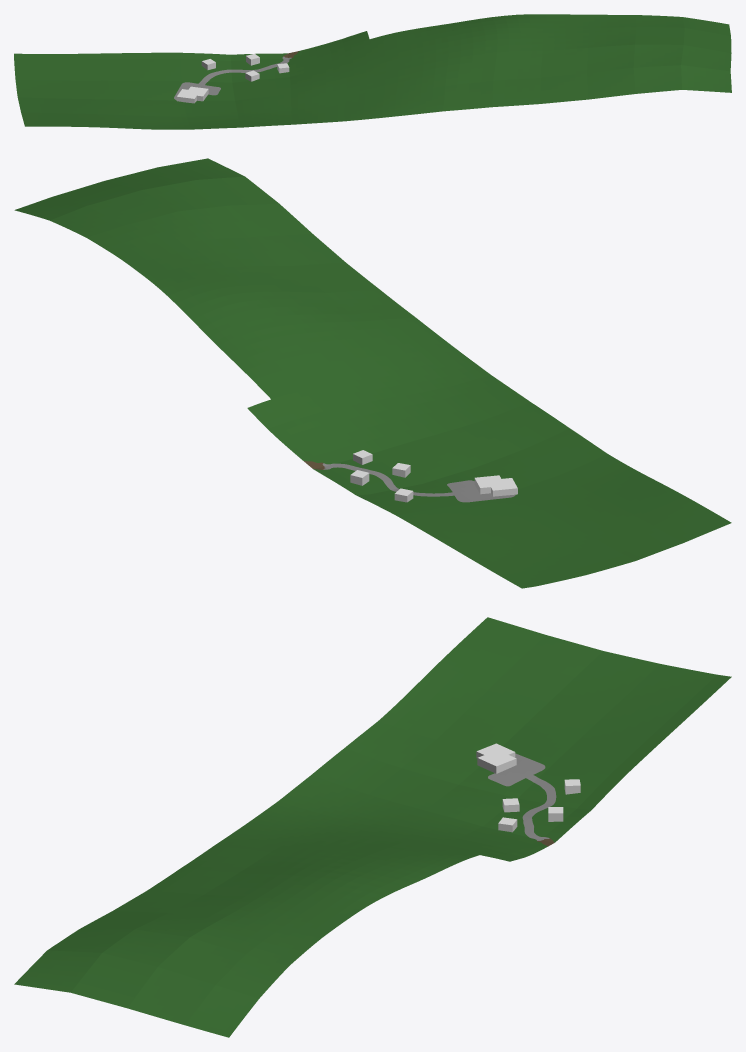
File: Jokern.fbx
3 views of the same model, one above another, from view 1: azimuth 30°, elevation 25°; view 2: azimuth 150°, elevation 25°; view 3: azimuth 270°, elevation 25° (orthographic). The views are drawn at different scales.
Parts seen in each view (by area): view 1: base, joker; view 2: base, joker; view 3: base, joker.
Part boxes in pixels (x1,y1,x2,y2): base: [14, 14, 731, 129]; joker: [176, 86, 208, 103]; base: [14, 158, 731, 588]; joker: [474, 475, 517, 496]; base: [14, 617, 731, 1037]; joker: [476, 743, 516, 773].
Size of the model in its own units: 6316 by 492 by 4316.
